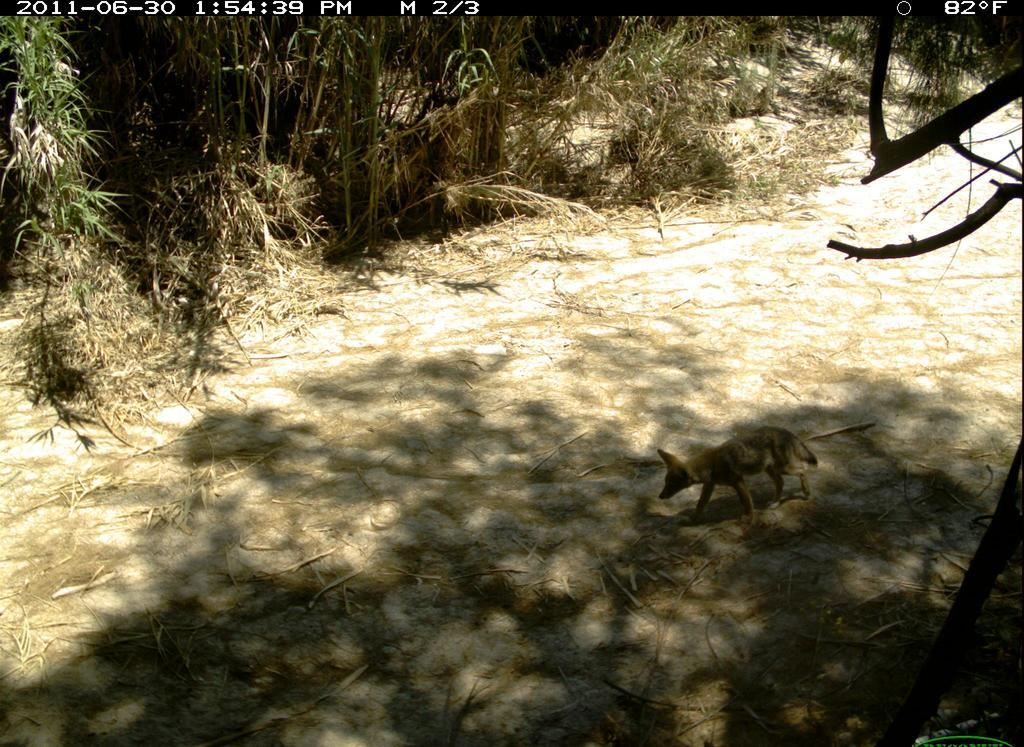coyote: (648, 420, 825, 533)
